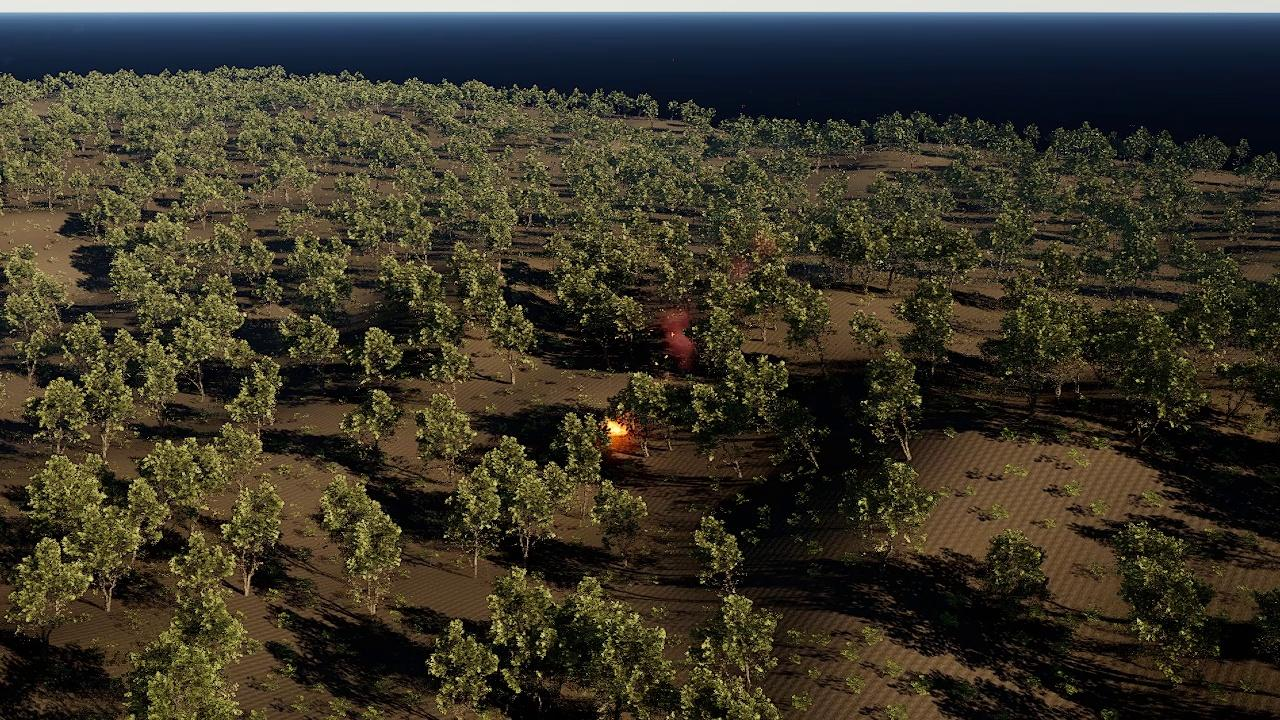fire: (607, 421, 630, 440)
smoke: (729, 238, 778, 285), (662, 306, 700, 364)
